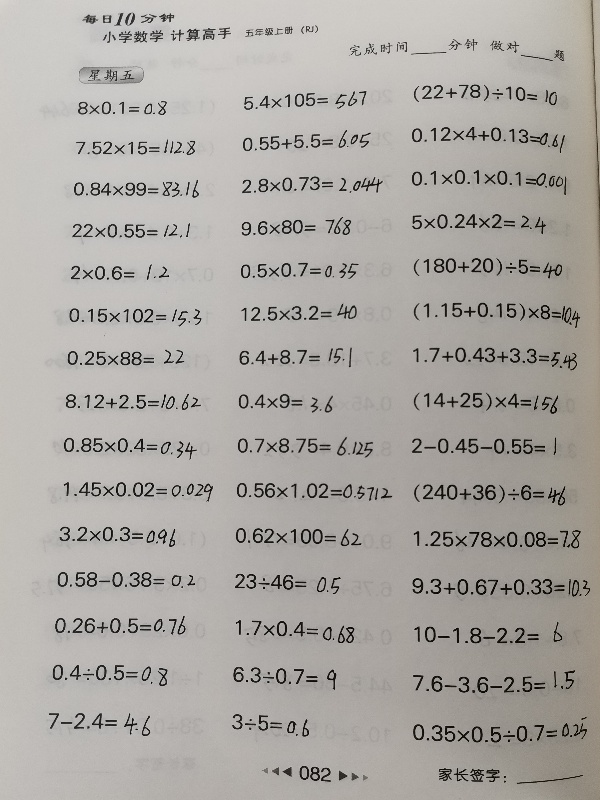equation: (409, 712, 596, 747), (405, 570, 594, 602), (409, 298, 583, 327), (409, 668, 578, 697), (409, 342, 582, 370), (407, 165, 570, 194), (410, 526, 585, 553), (407, 122, 568, 151), (409, 479, 569, 508), (409, 388, 562, 416), (409, 253, 566, 280), (409, 80, 561, 107), (232, 478, 395, 503), (410, 623, 569, 648), (59, 478, 216, 503), (409, 434, 561, 459), (51, 612, 190, 639), (233, 432, 376, 458), (59, 433, 200, 459), (408, 209, 549, 235), (223, 707, 330, 741), (239, 173, 387, 197), (238, 127, 374, 153), (53, 567, 198, 591), (231, 524, 364, 550), (231, 616, 358, 643), (62, 390, 204, 414), (65, 304, 205, 328), (48, 659, 172, 686), (70, 177, 203, 202), (45, 706, 155, 736), (240, 88, 370, 113), (55, 522, 179, 548), (228, 663, 339, 692), (238, 213, 356, 240), (236, 258, 362, 283), (235, 343, 355, 369), (71, 135, 199, 159), (231, 570, 344, 596), (63, 346, 187, 369), (236, 301, 360, 324), (69, 220, 194, 242), (234, 389, 336, 415), (68, 261, 173, 284), (74, 97, 171, 120)
